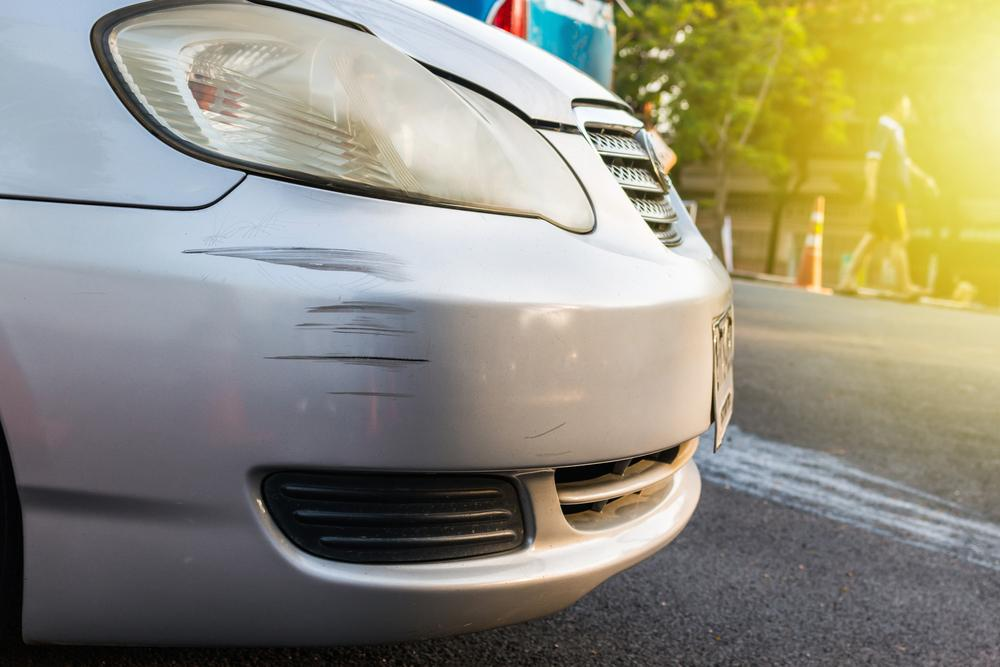scratch: (178, 241, 433, 411)
